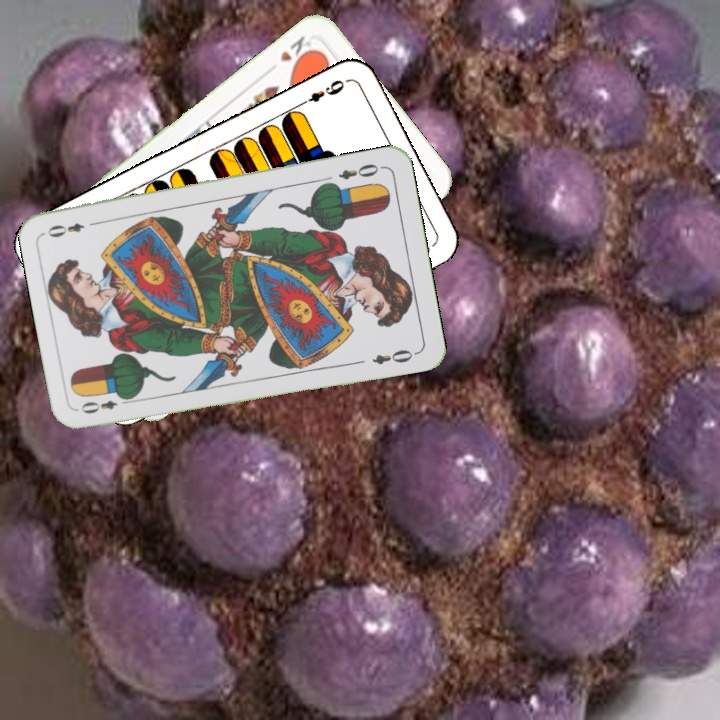E9: (294, 75, 347, 109)
EO: (77, 391, 134, 417), (334, 159, 386, 182)
HK: (275, 31, 320, 70)
